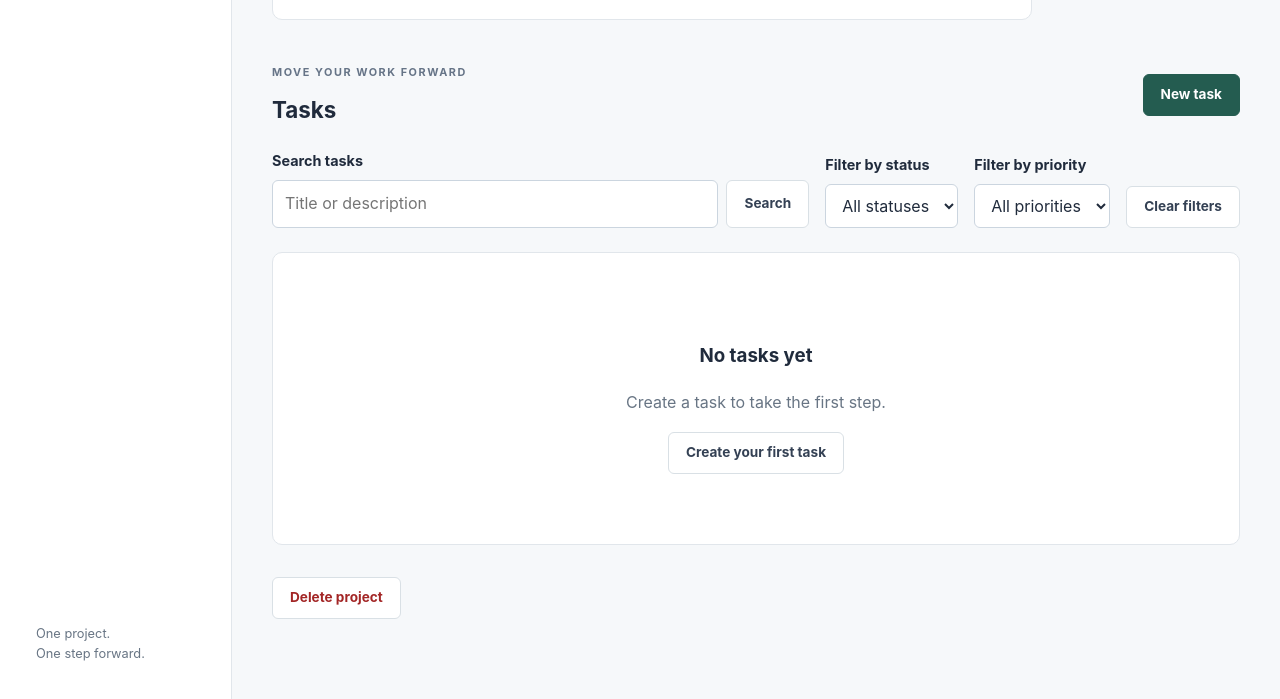
Scenario: project user workflows › retains the project and shows a failed deletion
(page scrolled)
Click the button "Delete project" at (336, 598), box [272,577,401,619]
(page scrolled)
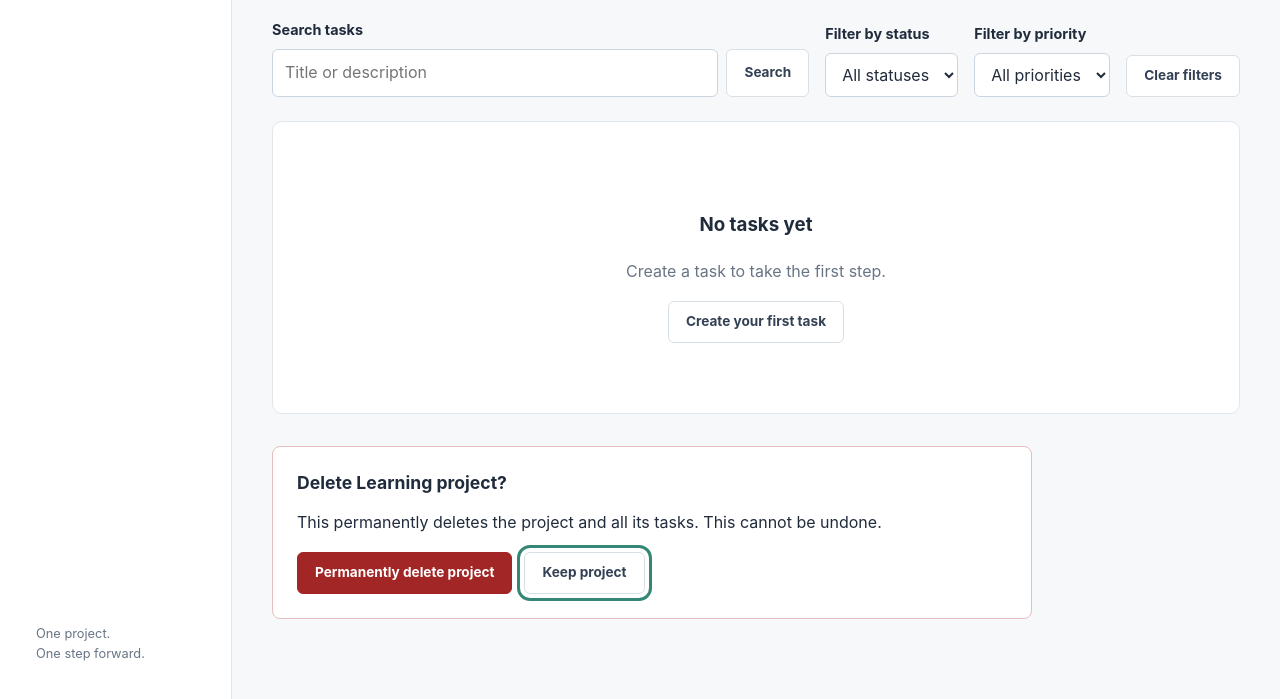
Click the button "Permanently delete project" at (405, 572), box [297,552,512,594]
(page scrolled)
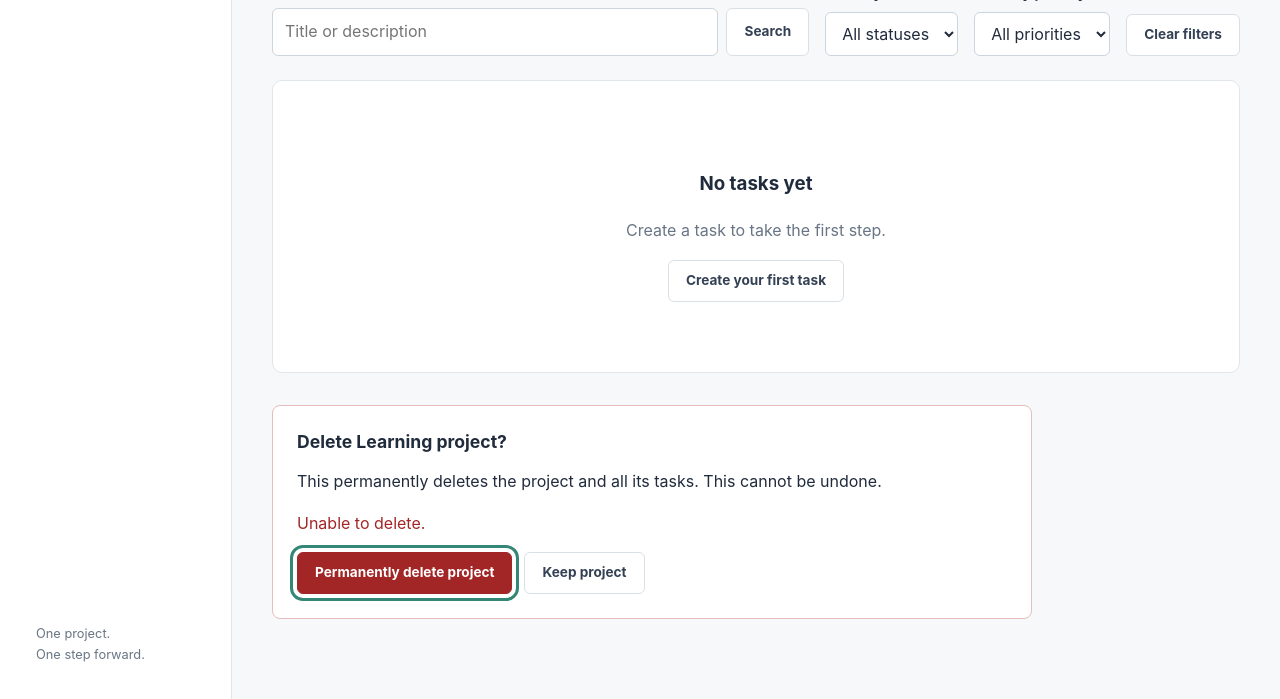
Expected: the button "Keep project" is shown, [524,552,645,594]
Expected: the message reads "Unable to delete.", [297,512,425,532]
